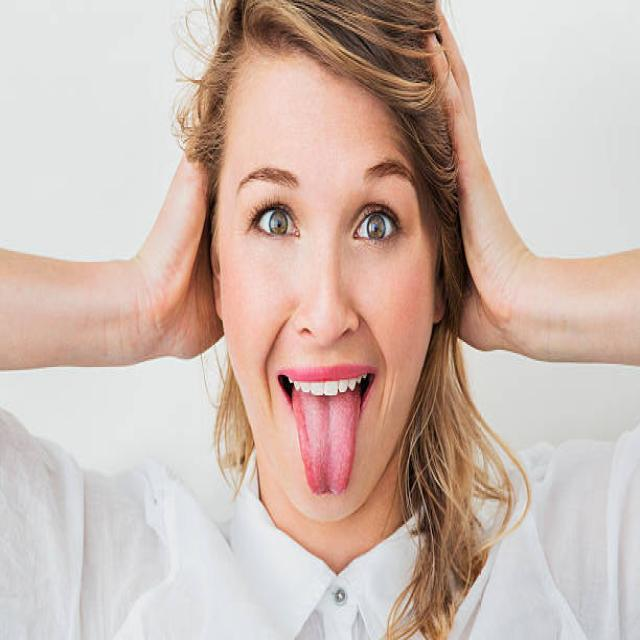tongue: (288, 388, 364, 502)
